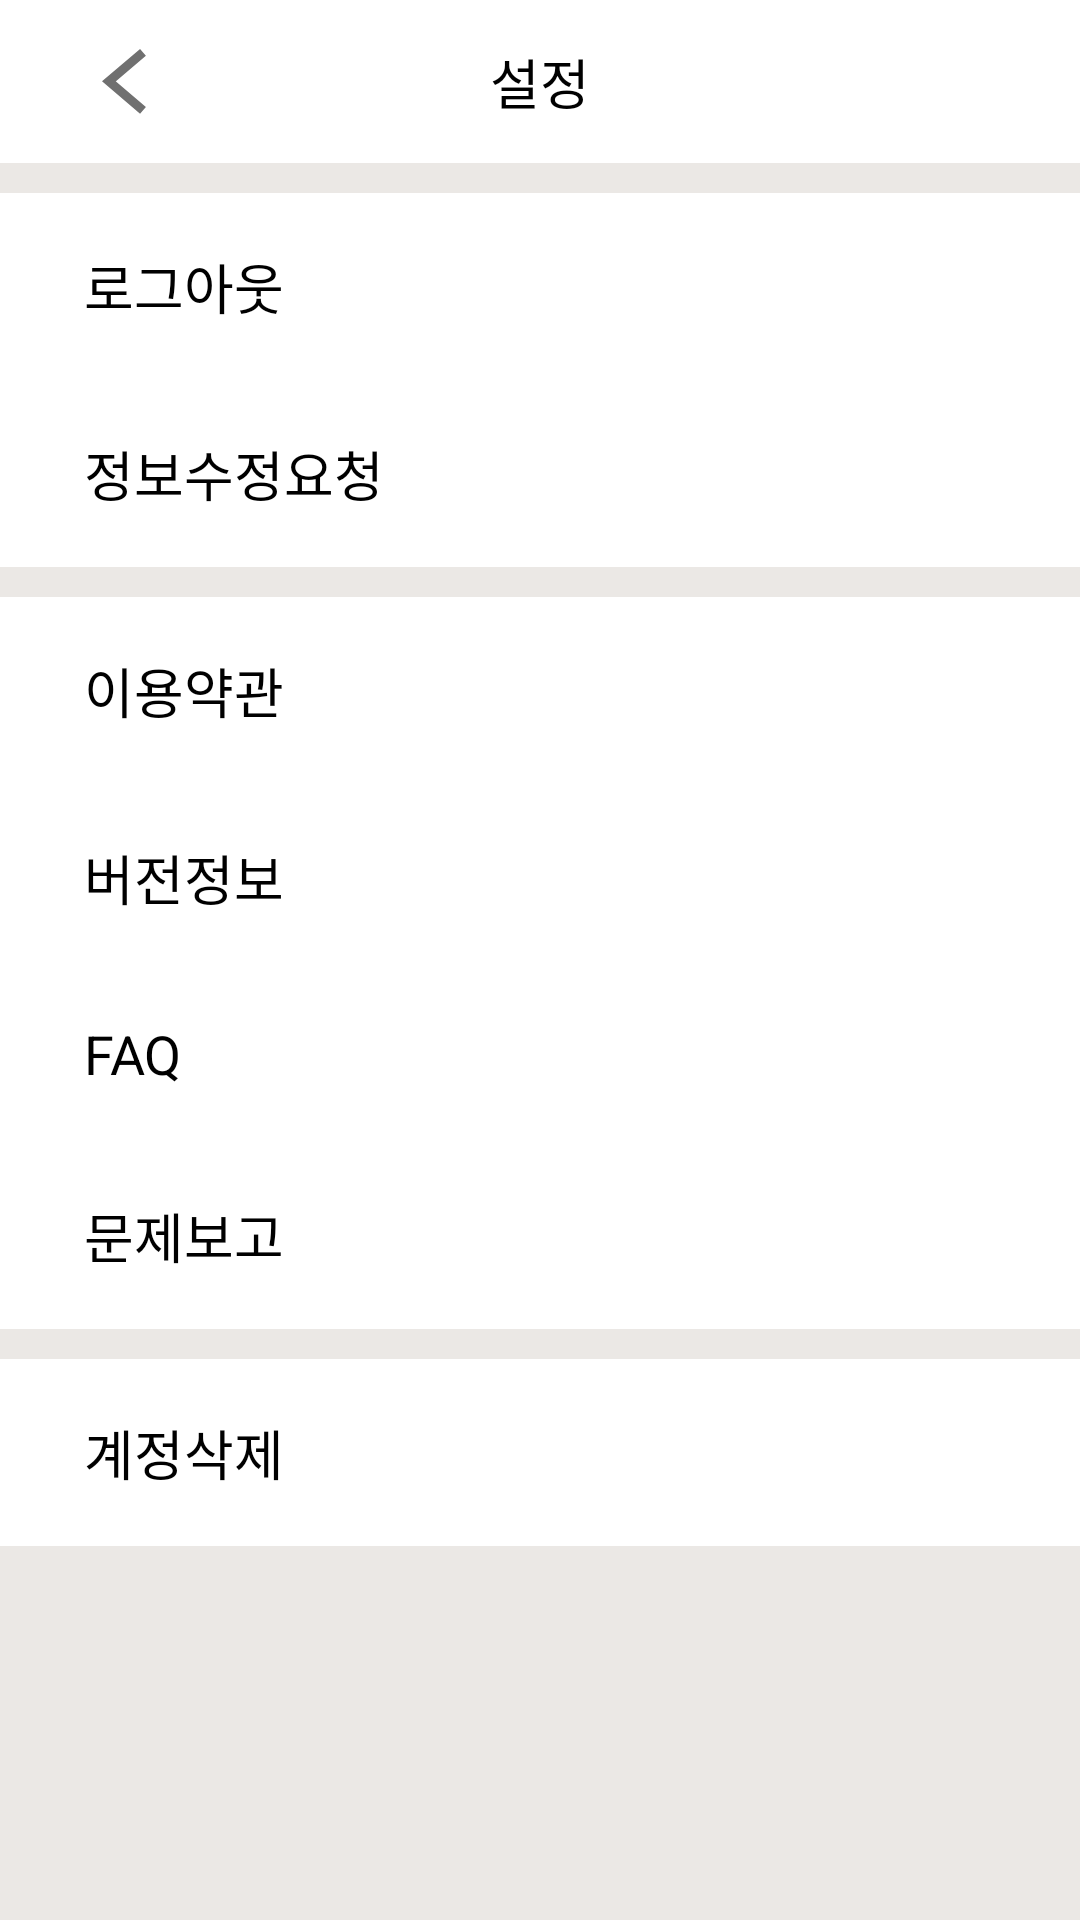

Locate icon controls on the screen. Image size 1080px x 1920px, boxes as region(x1, y1, x2, y2).
back: region(102, 49, 146, 114)
